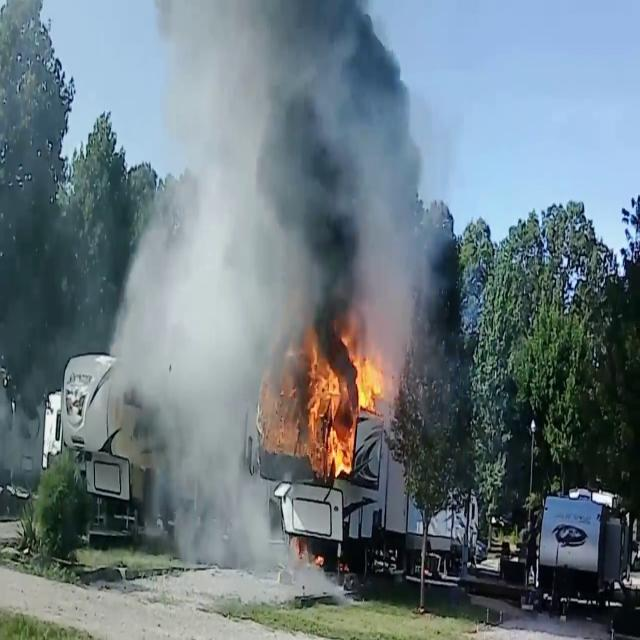Fire: (302, 326, 388, 476)
Smoke: (153, 1, 450, 357), (108, 178, 294, 558)
